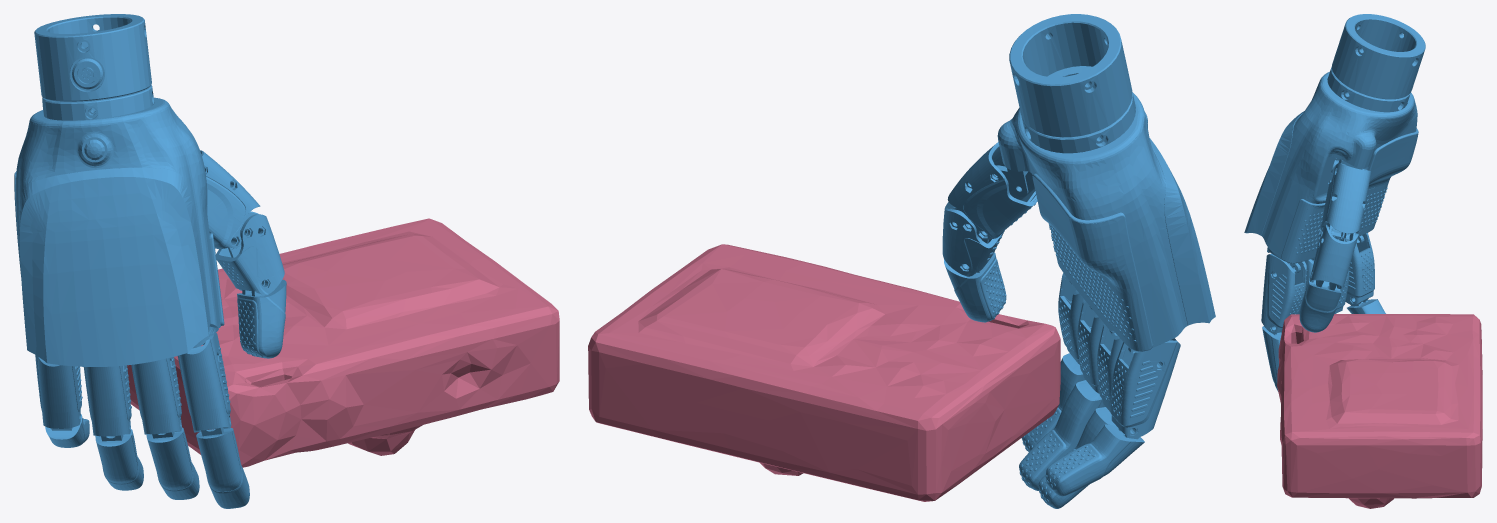
3 renders of one model, left to right at view 1: azimuth 30°, elevation 25°; view 2: azimuth 150°, elevation 25°; view 3: azimuth 270°, elevation 25°, orthographic. The views are drawn at different scales.
Visible parts, largest first — view 1: 0; view 2: 0; view 3: 0.
Part boxes in pixels (x1,y1,x2,y2): 0: [14, 14, 559, 508]; 0: [588, 14, 1215, 508]; 0: [1244, 14, 1482, 508].
Bounding box in the file's own units: 0.2651 × 0.2473 × 0.1421.
